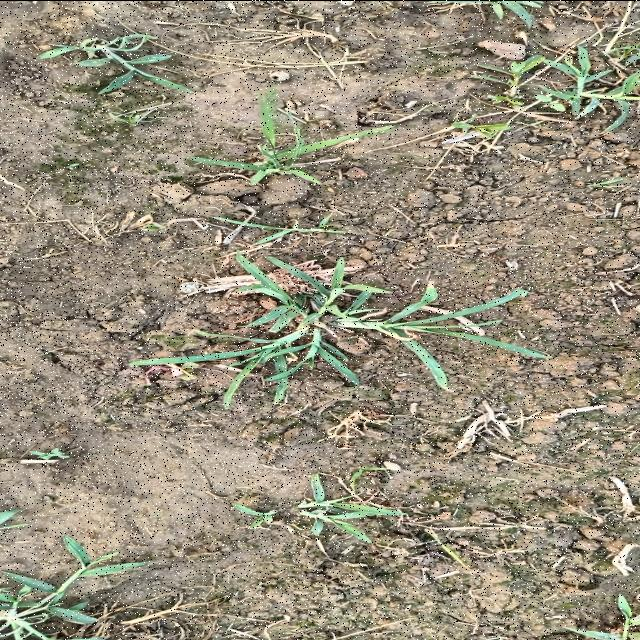plant: (127, 254, 547, 407)
